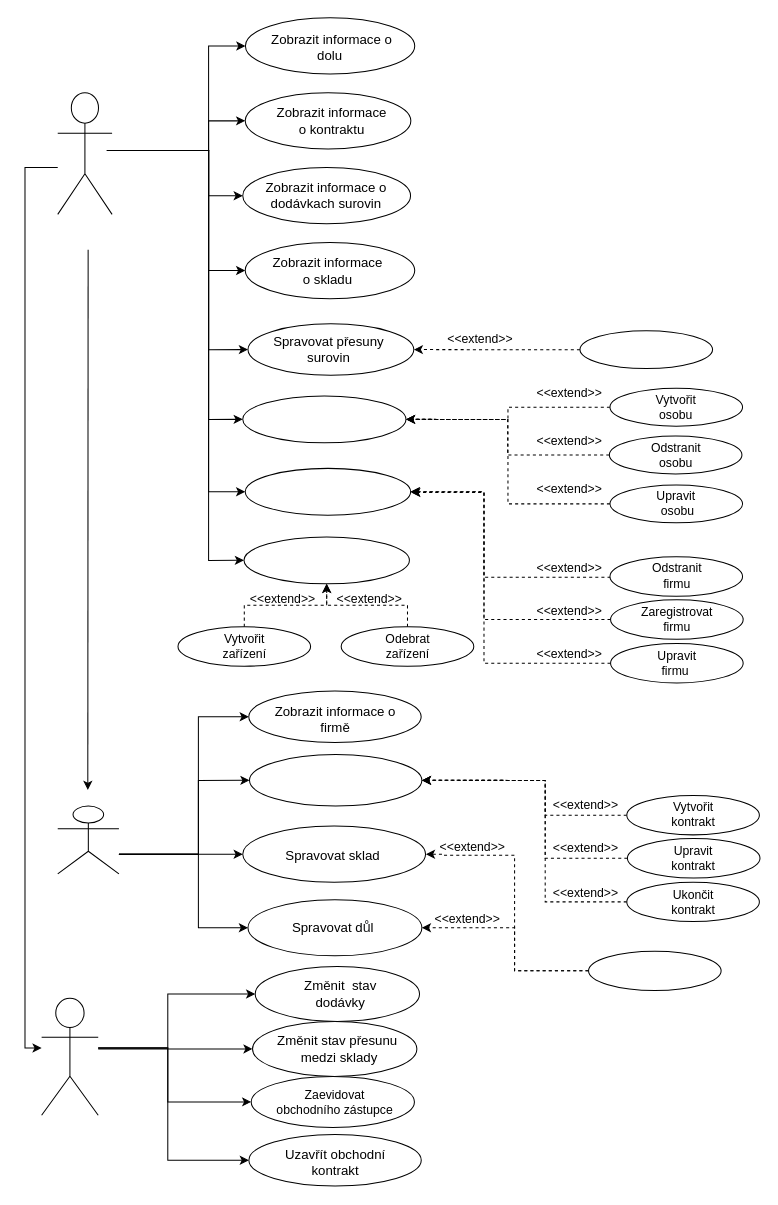
The diagram is 778 pixels wide and 1205 high, and some of its shapes have lost their labels. The shapes that lost their labels are listed below. From the top down, each one's centre as x and y in pixels, then its label:
[84,153]: Administrátor
[646,349]: Vytvořit přesun
[324,419]: Spravovat osoby
[327,491]: Spravovat údaje o firmách
[326,560]: Spravovat zařízení
[335,780]: Spravovat obchodní kontrakty
[88,839]: Trpaslík
[654,970]: Zaevidovat množství surovin
[69,1056]: Firma
